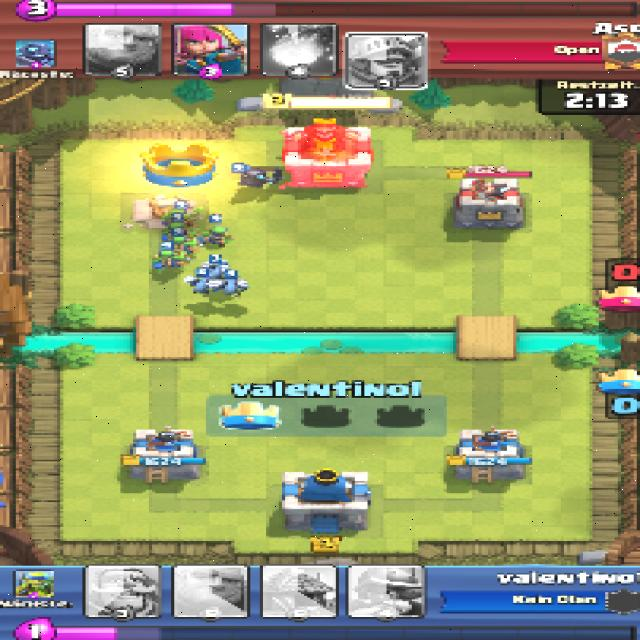Player-MiniPEKKA: (236, 164, 287, 190)
Player-Minion: (218, 275, 248, 297), (190, 275, 219, 293), (198, 260, 229, 275)
Player-SpearGoblin: (201, 229, 236, 246), (167, 205, 198, 223), (158, 217, 190, 234), (160, 236, 197, 250), (150, 249, 182, 265)
